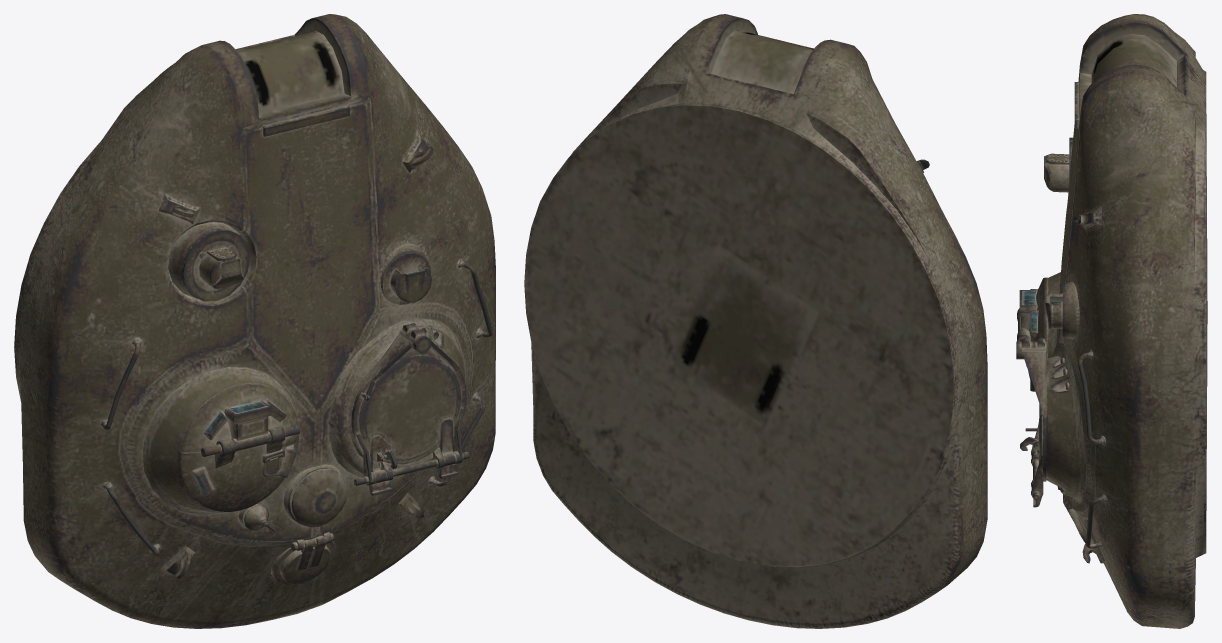
Rendered from Turret_01.glb.
The picture shows the model from 3 angles, left to right: view 1: azimuth 30°, elevation 25°; view 2: azimuth 150°, elevation 25°; view 3: azimuth 270°, elevation 25°; orthographic projection. The views are drawn at different scales.
Parts seen in each view (by area): view 1: set_0_group_0; view 2: set_0_group_0; view 3: set_0_group_0.
Boxes of the visible parts, box(x1,y1,x2,y2) form: set_0_group_0: box(14, 14, 495, 628); set_0_group_0: box(524, 14, 987, 628); set_0_group_0: box(1016, 14, 1207, 628).
Size of the model in its own units: 2.5 by 3.17 by 0.9905.
1 material, 1 textured.
